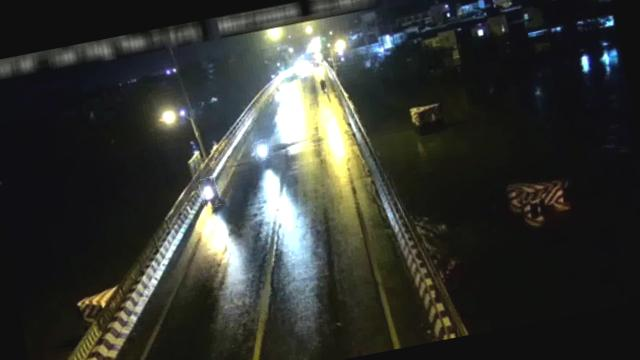Bike: (199, 176, 222, 208), (253, 140, 270, 161), (318, 76, 325, 92)
